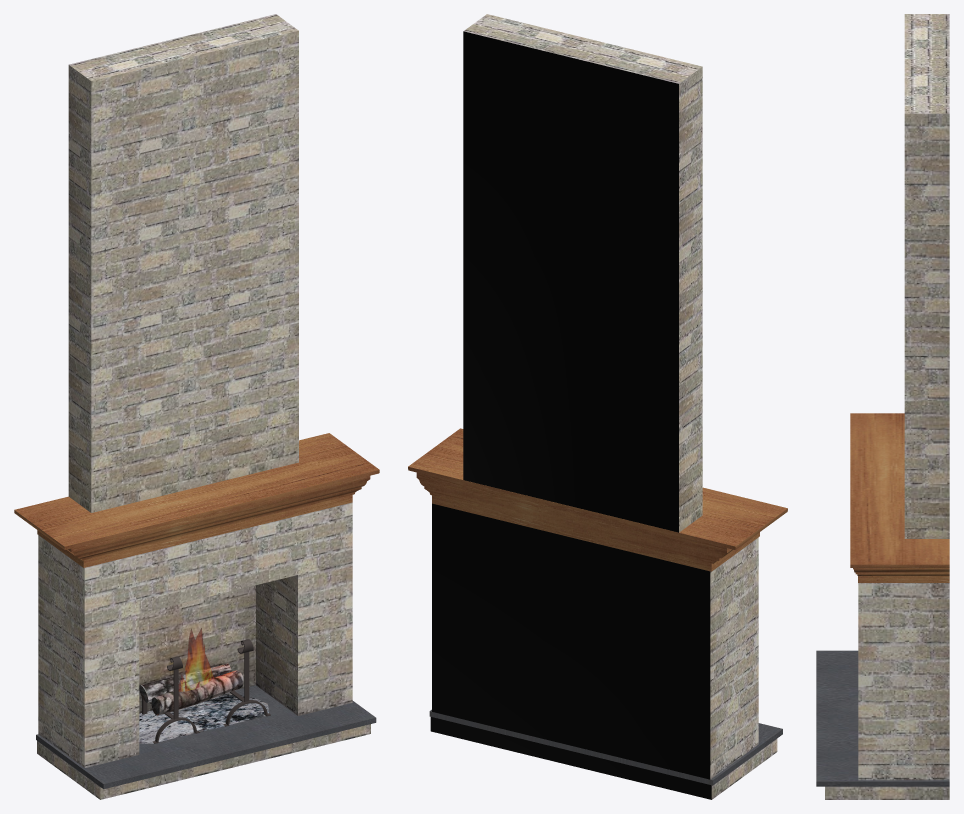
Rendered from fireplace-cosy.glb.
The picture shows the model from 3 angles, left to right: view 1: azimuth 30°, elevation 25°; view 2: azimuth 150°, elevation 25°; view 3: azimuth 270°, elevation 25°; orthographic projection. The views are drawn at different scales.
Parts seen in each view (by area): view 1: Object_6, Object_4, Object_7, Object_5, Object_2, Object_8, Object_9, Object_3; view 2: Object_4, Object_6, Object_8, Object_7, Object_5; view 3: Object_6, Object_4, Object_7, Object_5.
Part boxes in pixels (x1,y1,x2,y2): Object_6: (68,14,298,512); Object_4: (37,502,370,799); Object_7: (14,433,379,567); Object_5: (36,685,376,789); Object_2: (139,693,268,743); Object_8: (139,663,243,715); Object_9: (142,639,270,743); Object_3: (178,628,213,691); Object_4: (430,31,777,799); Object_6: (464,14,702,532); Object_8: (408,466,735,571); Object_7: (408,428,787,571); Object_5: (429,709,782,785); Object_6: (904,14,949,538); Object_4: (825,583,949,799); Object_7: (850,413,949,582); Object_5: (816,650,949,786).
Bounding box in the file's own units: 121 × 250 × 44.93.
8 materials, 7 textured.
